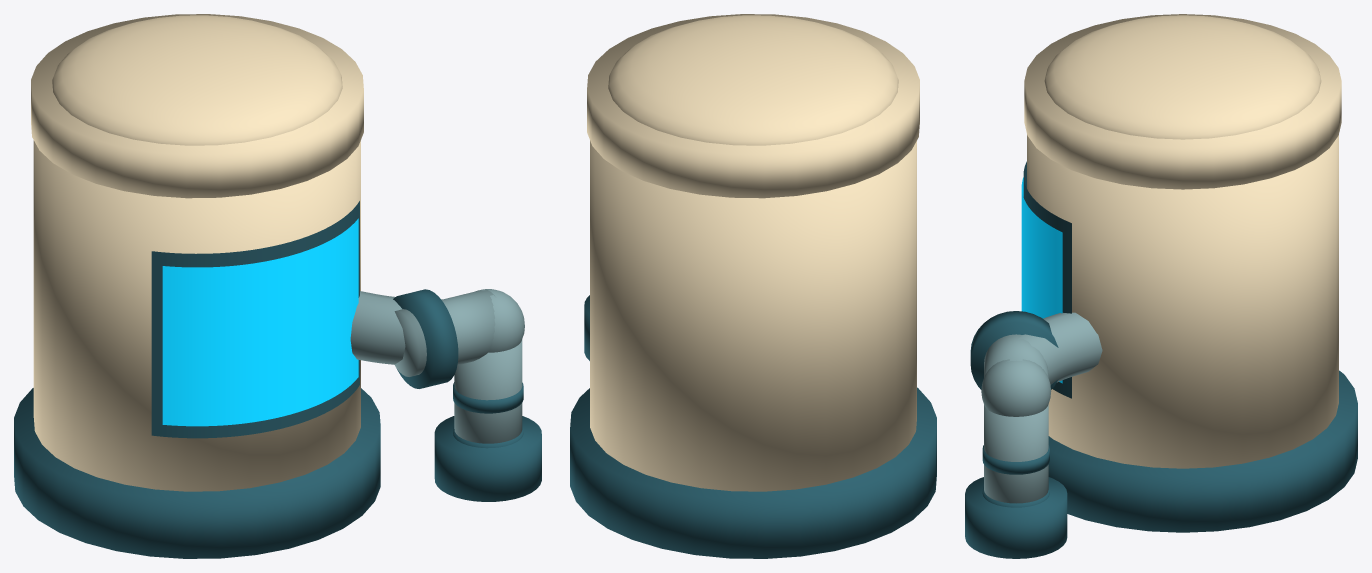
Rendered from refinery.glb.
The picture shows the model from 3 angles, left to right: view 1: azimuth 30°, elevation 25°; view 2: azimuth 150°, elevation 25°; view 3: azimuth 270°, elevation 25°; orthographic projection. The views are drawn at different scales.
Visible parts, largest first — view 1: Refinery tank, Window turquoise glass, Rounded refinery crown, Refinery base, Refinery lid, Window dark border, Pipe foot, Refinery pipe, Pipe top connector, Pipe collar, Tank connected outlet, Pipe elbow (+1 smaller); view 2: Refinery tank, Rounded refinery crown, Refinery base, Refinery lid; view 3: Refinery tank, Rounded refinery crown, Refinery base, Refinery lid, Pipe foot, Refinery pipe, Window turquoise glass, Pipe elbow, Tank connected outlet, Pipe collar, Window dark border, Pipe top connector (+1 smaller).
Part boxes in pixels (x1,y1,x2,y2): Refinery tank: [33, 140, 360, 491]; Window turquoise glass: [162, 218, 358, 426]; Rounded refinery crown: [52, 15, 342, 145]; Refinery base: [14, 388, 380, 558]; Refinery lid: [31, 14, 363, 198]; Window dark border: [151, 201, 359, 438]; Pipe foot: [434, 416, 541, 501]; Refinery pipe: [454, 339, 522, 443]; Pipe top connector: [394, 289, 495, 376]; Pipe collar: [393, 289, 458, 388]; Tank connected outlet: [350, 291, 445, 364]; Pipe elbow: [476, 289, 524, 352]; Refinery tank: [590, 140, 916, 491]; Rounded refinery crown: [608, 15, 898, 145]; Refinery base: [570, 387, 936, 558]; Refinery lid: [587, 14, 919, 198]; Refinery tank: [1027, 135, 1338, 468]; Rounded refinery crown: [1044, 15, 1321, 139]; Refinery base: [1048, 370, 1357, 532]; Refinery lid: [1024, 14, 1341, 189]; Pipe foot: [965, 477, 1067, 558]; Refinery pipe: [984, 404, 1048, 503]; Window turquoise glass: [1021, 177, 1062, 383]; Pipe elbow: [981, 359, 1051, 416]; Tank connected outlet: [1017, 312, 1102, 384]; Pipe collar: [970, 311, 1058, 389]; Window dark border: [1023, 161, 1071, 398]; Pipe top connector: [984, 334, 1048, 377].
Size of the model in its own units: 1.67 by 1.68 by 1.46.
